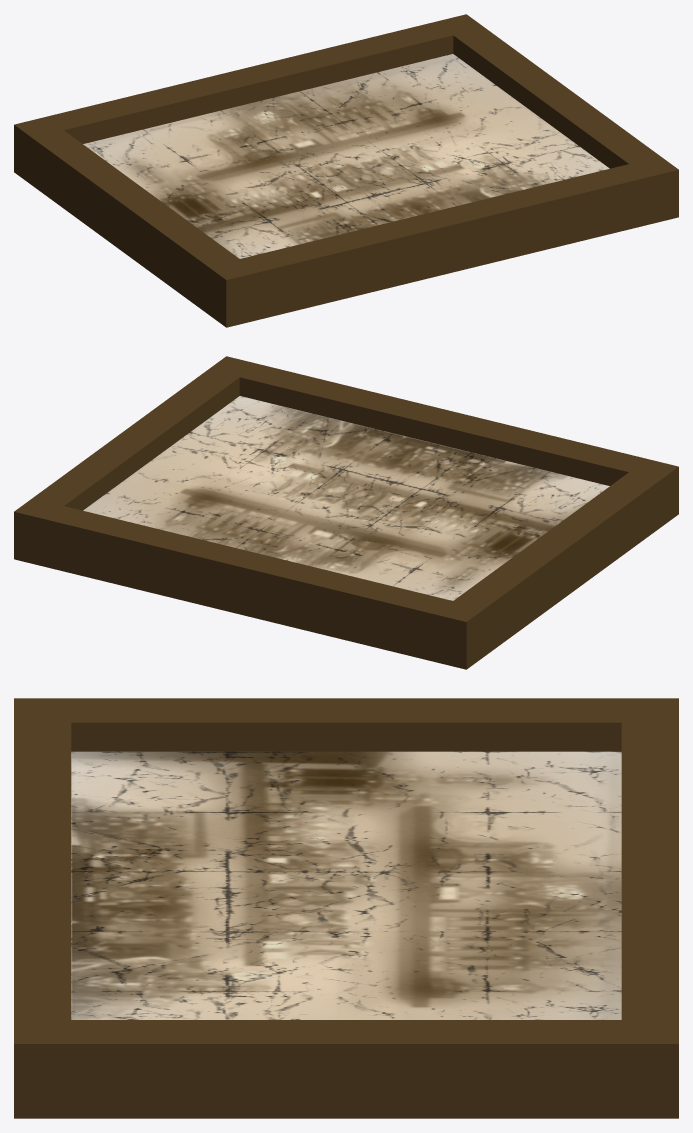
File: Photo Pride.fbx
3 views of the same model, one above another, from view 1: azimuth 30°, elevation 25°; view 2: azimuth 150°, elevation 25°; view 3: azimuth 270°, elevation 25° (orthographic). The views are drawn at different scales.
Parts seen in each view (by area): view 1: pCube1; view 2: pCube1; view 3: pCube1.
Part boxes in pixels (x1,y1,x2,y2): pCube1: (14,14,678,327); pCube1: (14,356,678,669); pCube1: (14,698,678,1118).
Size of the model in its own units: 4.29 by 0.4318 by 3.49.
Materials: 2 (1 with a texture image).
